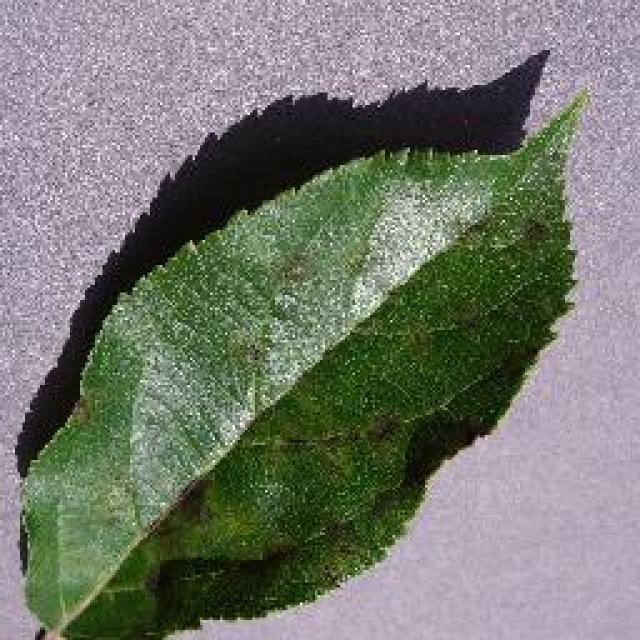apple scab disease: (12, 45, 590, 637)
